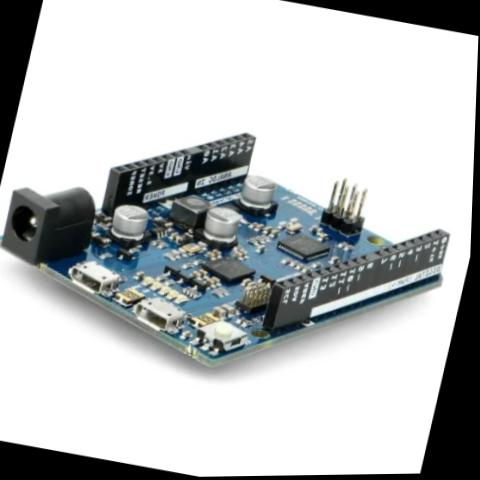Arduino-Zero: (0, 31, 477, 425)
